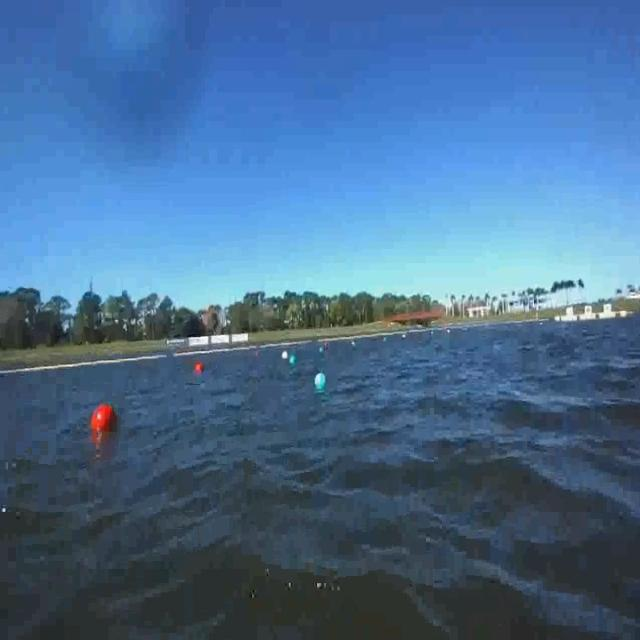green-buoy: (314, 372, 327, 392)
red-buoy: (91, 405, 116, 435), (194, 361, 202, 372)
